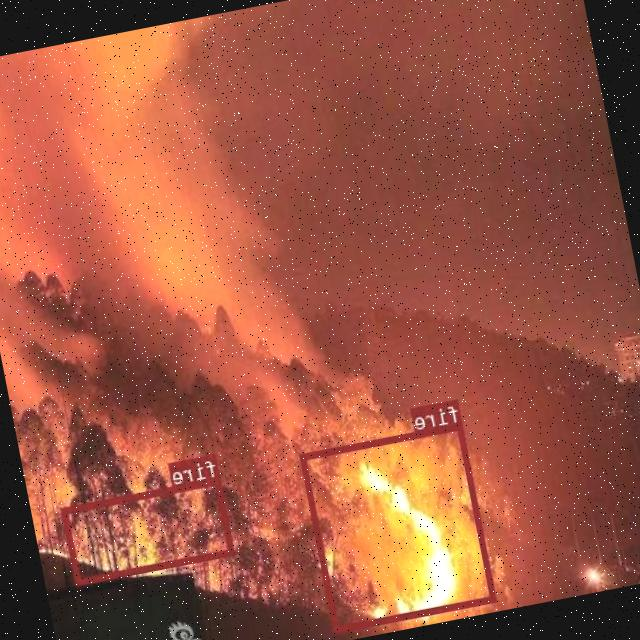fire: (302, 421, 498, 632), (62, 477, 236, 584)
